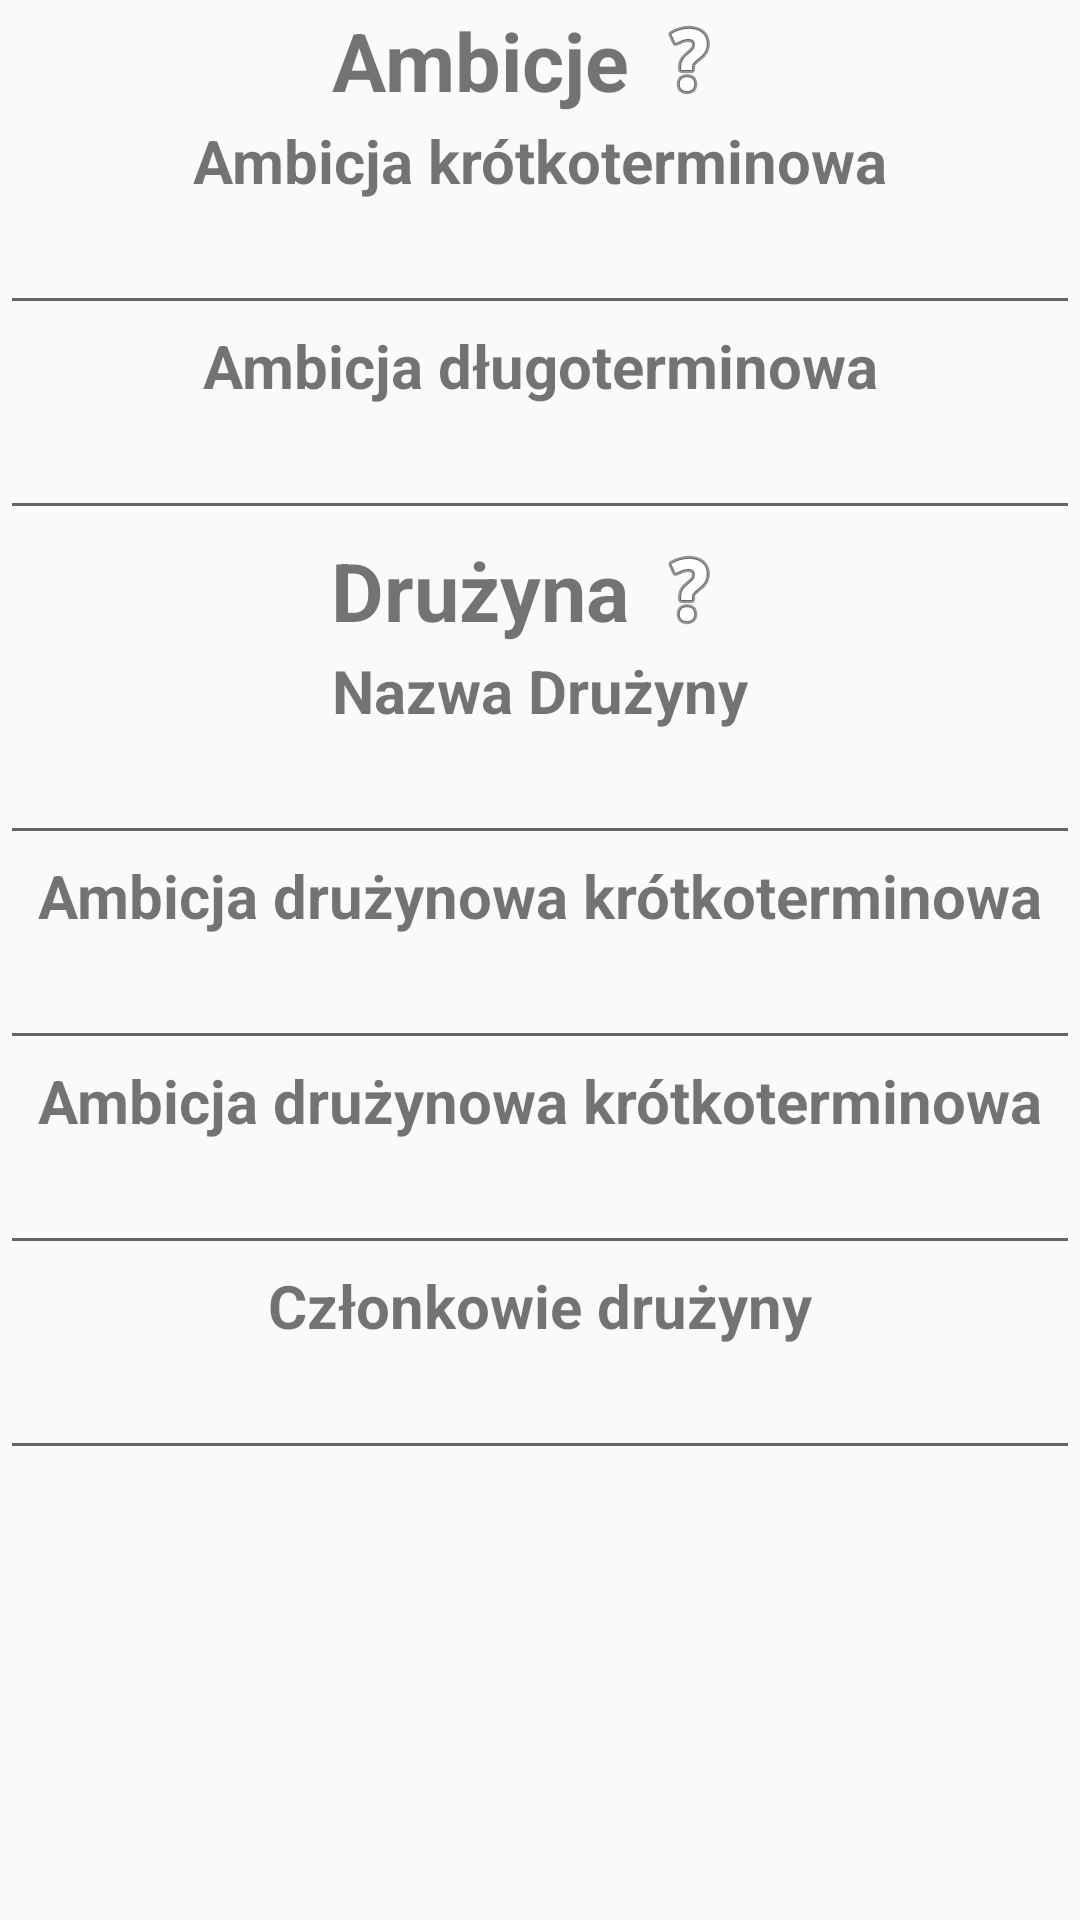

Where to tap for icons on this 1080 x 1920 app screen, as point (x, y):
Pomoc: point (689, 60), point (689, 590)
